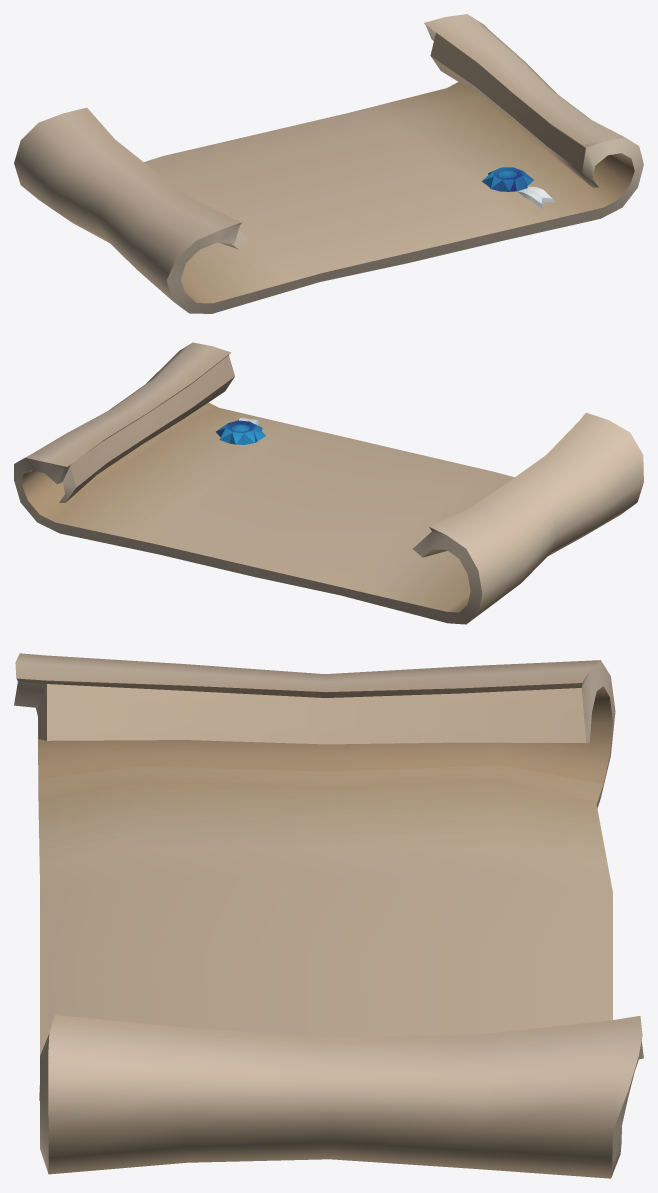
The model's file is map_empty.gltf.
3 views of the same model, one above another, from view 1: azimuth 30°, elevation 25°; view 2: azimuth 150°, elevation 25°; view 3: azimuth 270°, elevation 25° (orthographic). The views are drawn at different scales.
Visible parts, largest first — view 1: map_empty; view 2: map_empty; view 3: map_empty.
Part boxes in pixels (box(x1,y1,x2,y2)): map_empty: box(14, 14, 643, 313); map_empty: box(14, 342, 643, 624); map_empty: box(14, 653, 643, 1178).
Bounding box in the file's own units: 1.94 × 0.3547 × 1.22.
2 materials, 2 textured.
